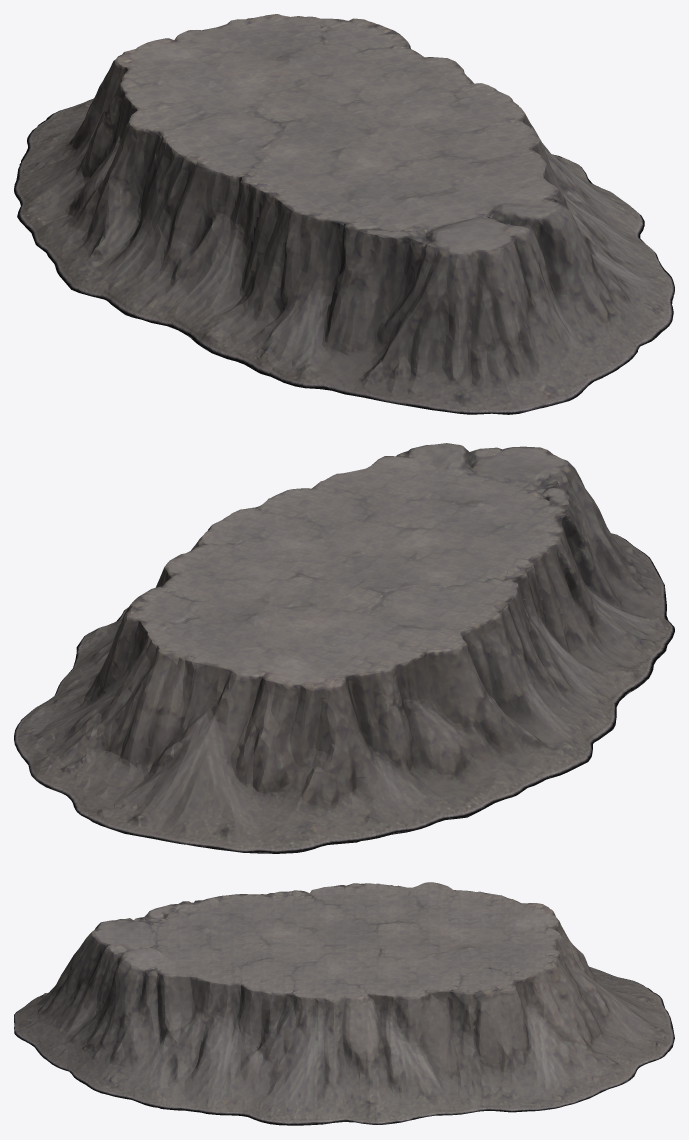
The picture shows the model from 3 angles, top to bottom: view 1: azimuth 30°, elevation 25°; view 2: azimuth 150°, elevation 25°; view 3: azimuth 270°, elevation 25°; orthographic projection. The views are drawn at different scales.
Visible parts, largest first — view 1: world; view 2: world; view 3: world.
Boxes of the visible parts, x1=… form: world: x1=14, y1=14, x2=674, y2=414; world: x1=14, y1=443, x2=674, y2=853; world: x1=14, y1=882, x2=674, y2=1125.
Size of the model in its own units: 0.6757 by 0.1575 by 0.9969.
1 material, 1 textured.
